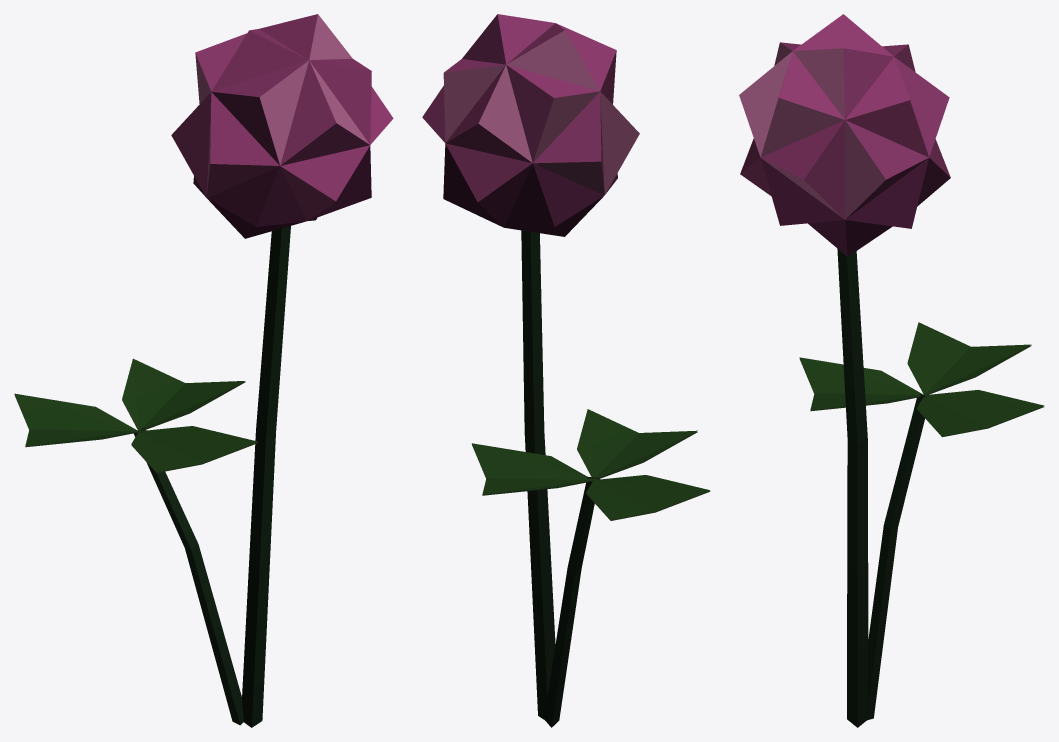
The model's file is bloom_clover.fbx.
3 views of the same model, side by side, from view 1: azimuth 30°, elevation 25°; view 2: azimuth 150°, elevation 25°; view 3: azimuth 270°, elevation 25° (orthographic). The views are drawn at different scales.
Parts seen in each view (by area): view 1: Bloom_Clover; view 2: Bloom_Clover; view 3: Bloom_Clover.
Part boxes in pixels (bbox=[...]): Bloom_Clover: bbox=[14, 14, 393, 727]; Bloom_Clover: bbox=[422, 14, 710, 727]; Bloom_Clover: bbox=[739, 14, 1044, 727].
Size of the model in its own units: 0.0864 by 0.1861 by 0.0732.
